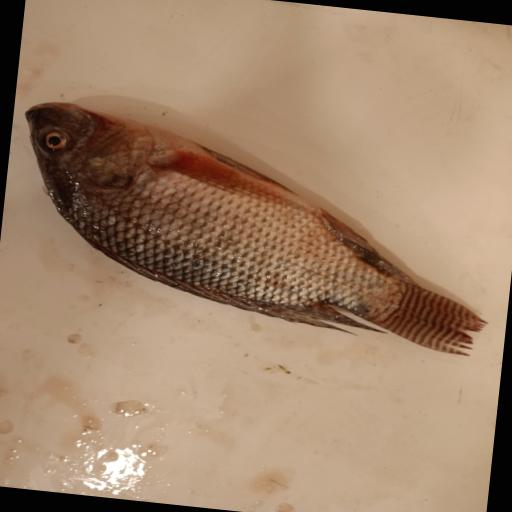Tilapia: (5, 99, 507, 358)
